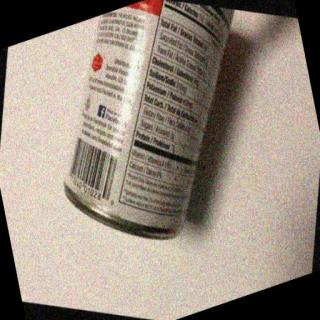METAL: (64, 0, 236, 239)
